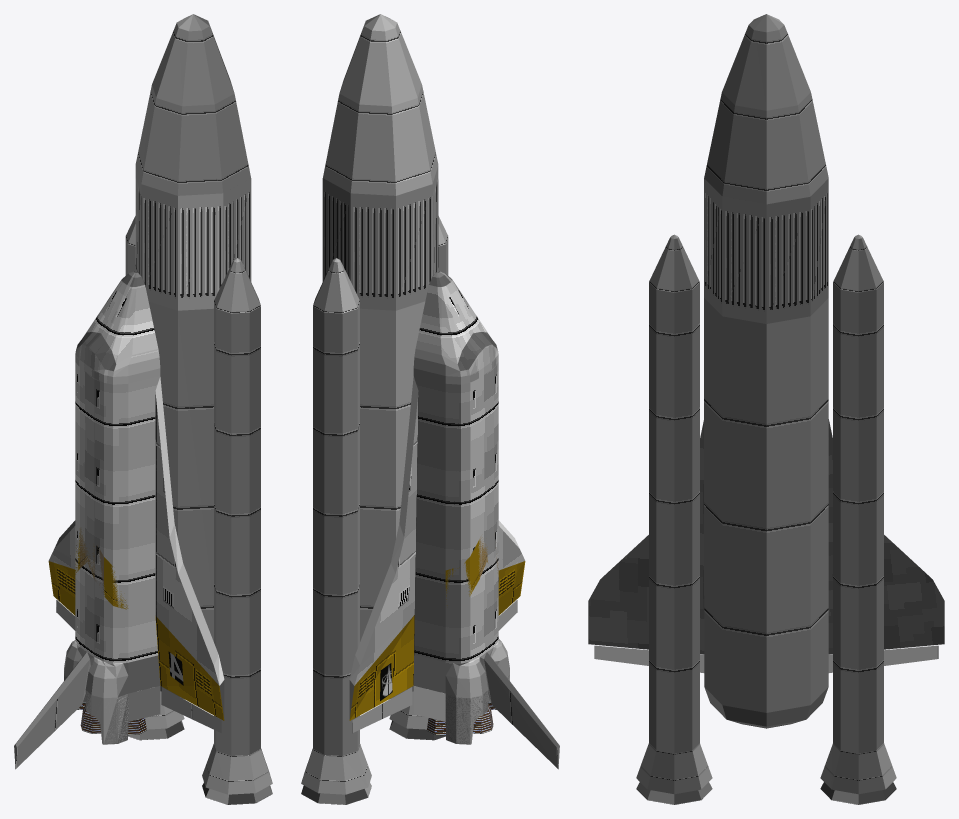
Rendered from aztec_rocket_ship.glb.
The picture shows the model from 3 angles, left to right: view 1: azimuth 30°, elevation 25°; view 2: azimuth 150°, elevation 25°; view 3: azimuth 270°, elevation 25°; orthographic projection. The views are drawn at different scales.
Visible parts, largest first — view 1: Object; view 2: Object; view 3: Object.
Boxes of the visible parts, bbox=[...] form: Object: bbox=[14, 14, 272, 804]; Object: bbox=[301, 14, 559, 804]; Object: bbox=[588, 14, 944, 804].
Size of the model in its own units: 12.94 by 40.04 by 16.69.
Materials: 82 (82 with a texture image).
